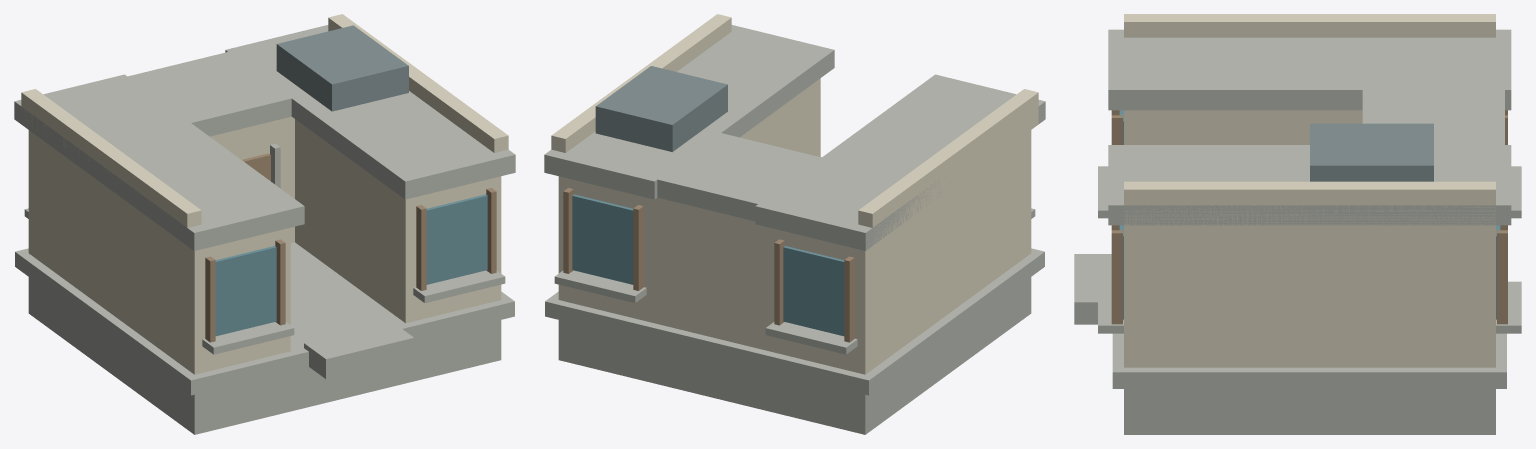
Rendered from courtyard-0.glb.
3 renders of one model, left to right at view 1: azimuth 30°, elevation 25°; view 2: azimuth 150°, elevation 25°; view 3: azimuth 270°, elevation 25°, orthographic. The views are drawn at different scales.
Size of the model in its own units: 3.38 by 2.35 by 3.61.
